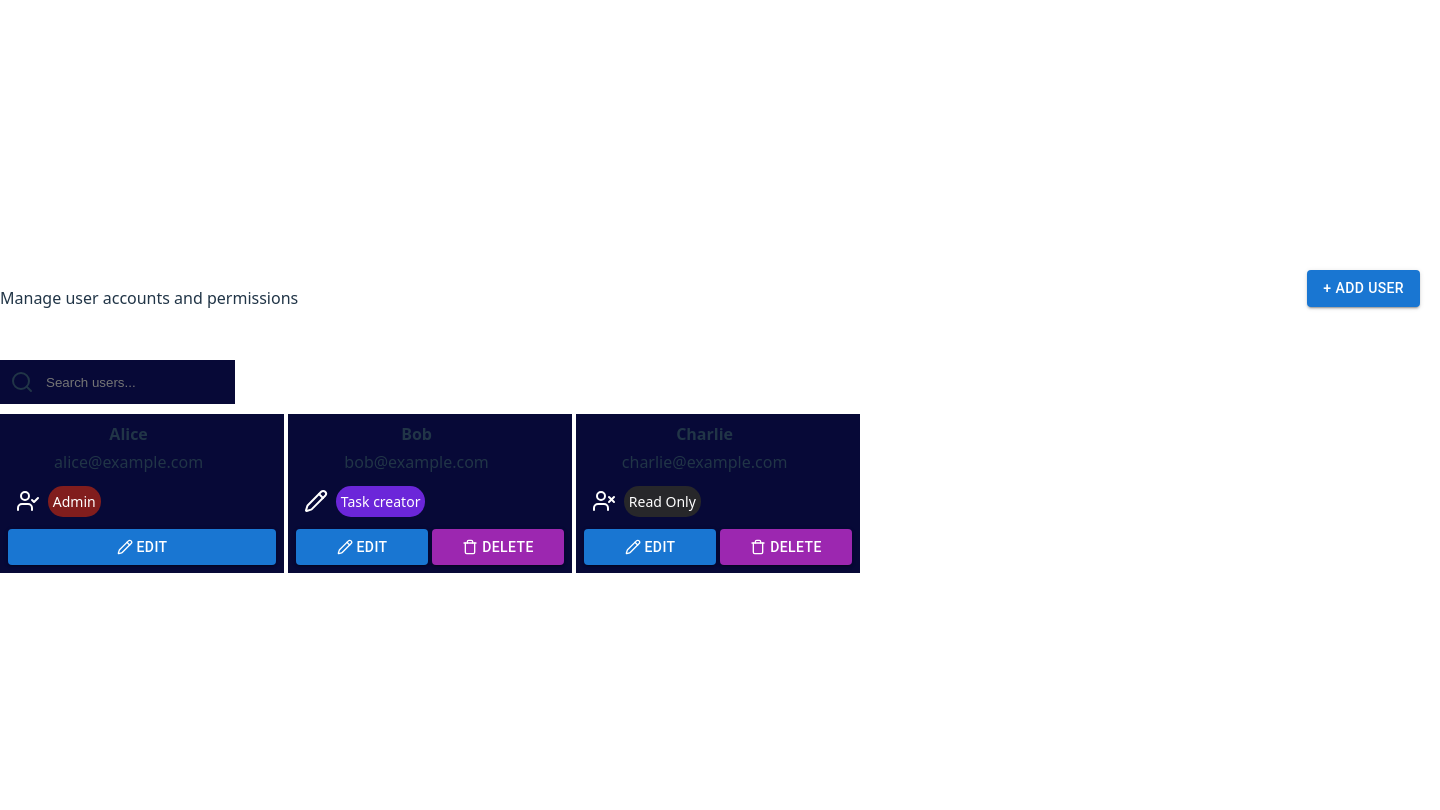
it: UserManagement Component › opens Edit modal when Edit clicked
Click the button "Edit" below "Admin" at x=142, y=547, box top-left (8, 529), bottom-right (276, 565)
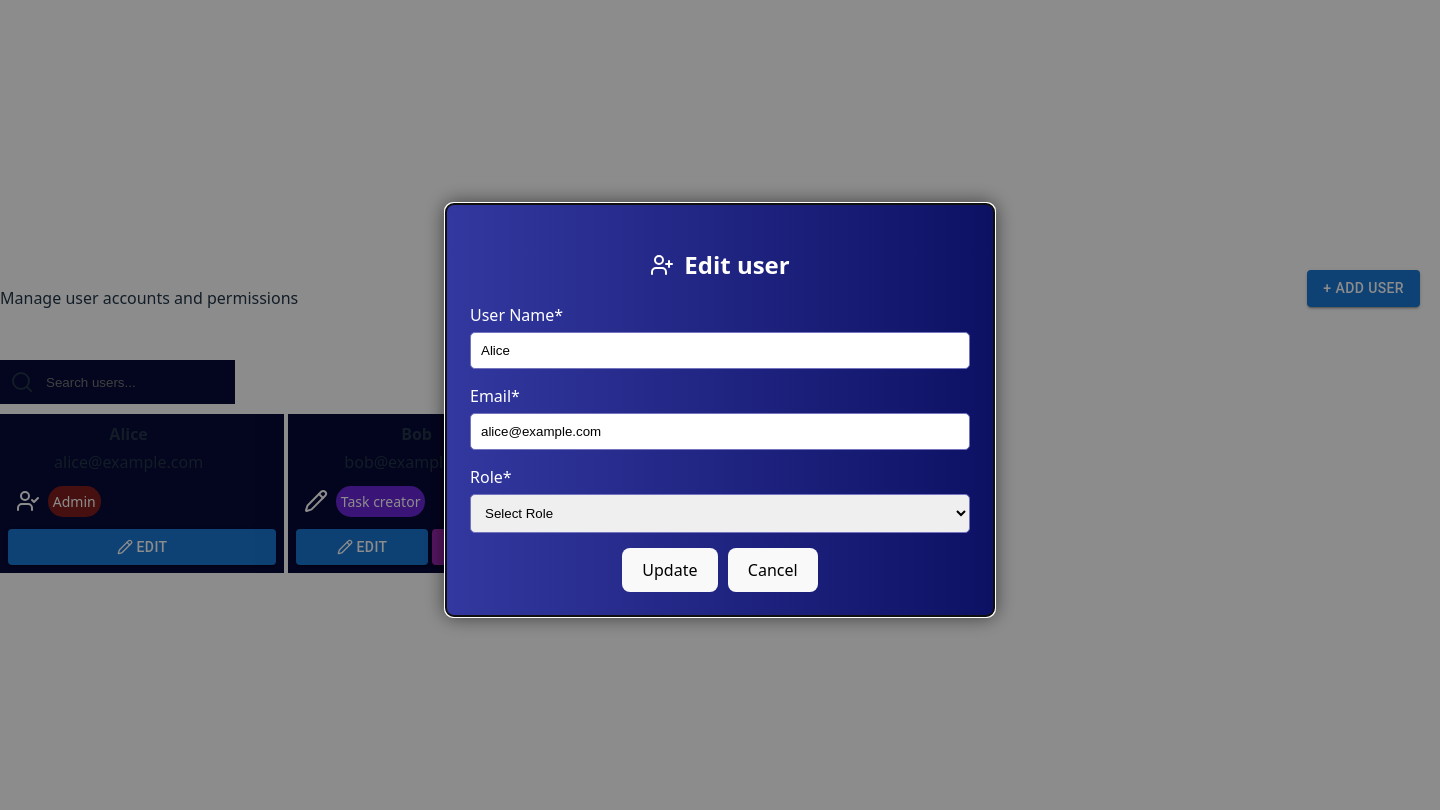
Check: the heading "Edit user" is shown, box top-left (650, 248), bottom-right (790, 281)
